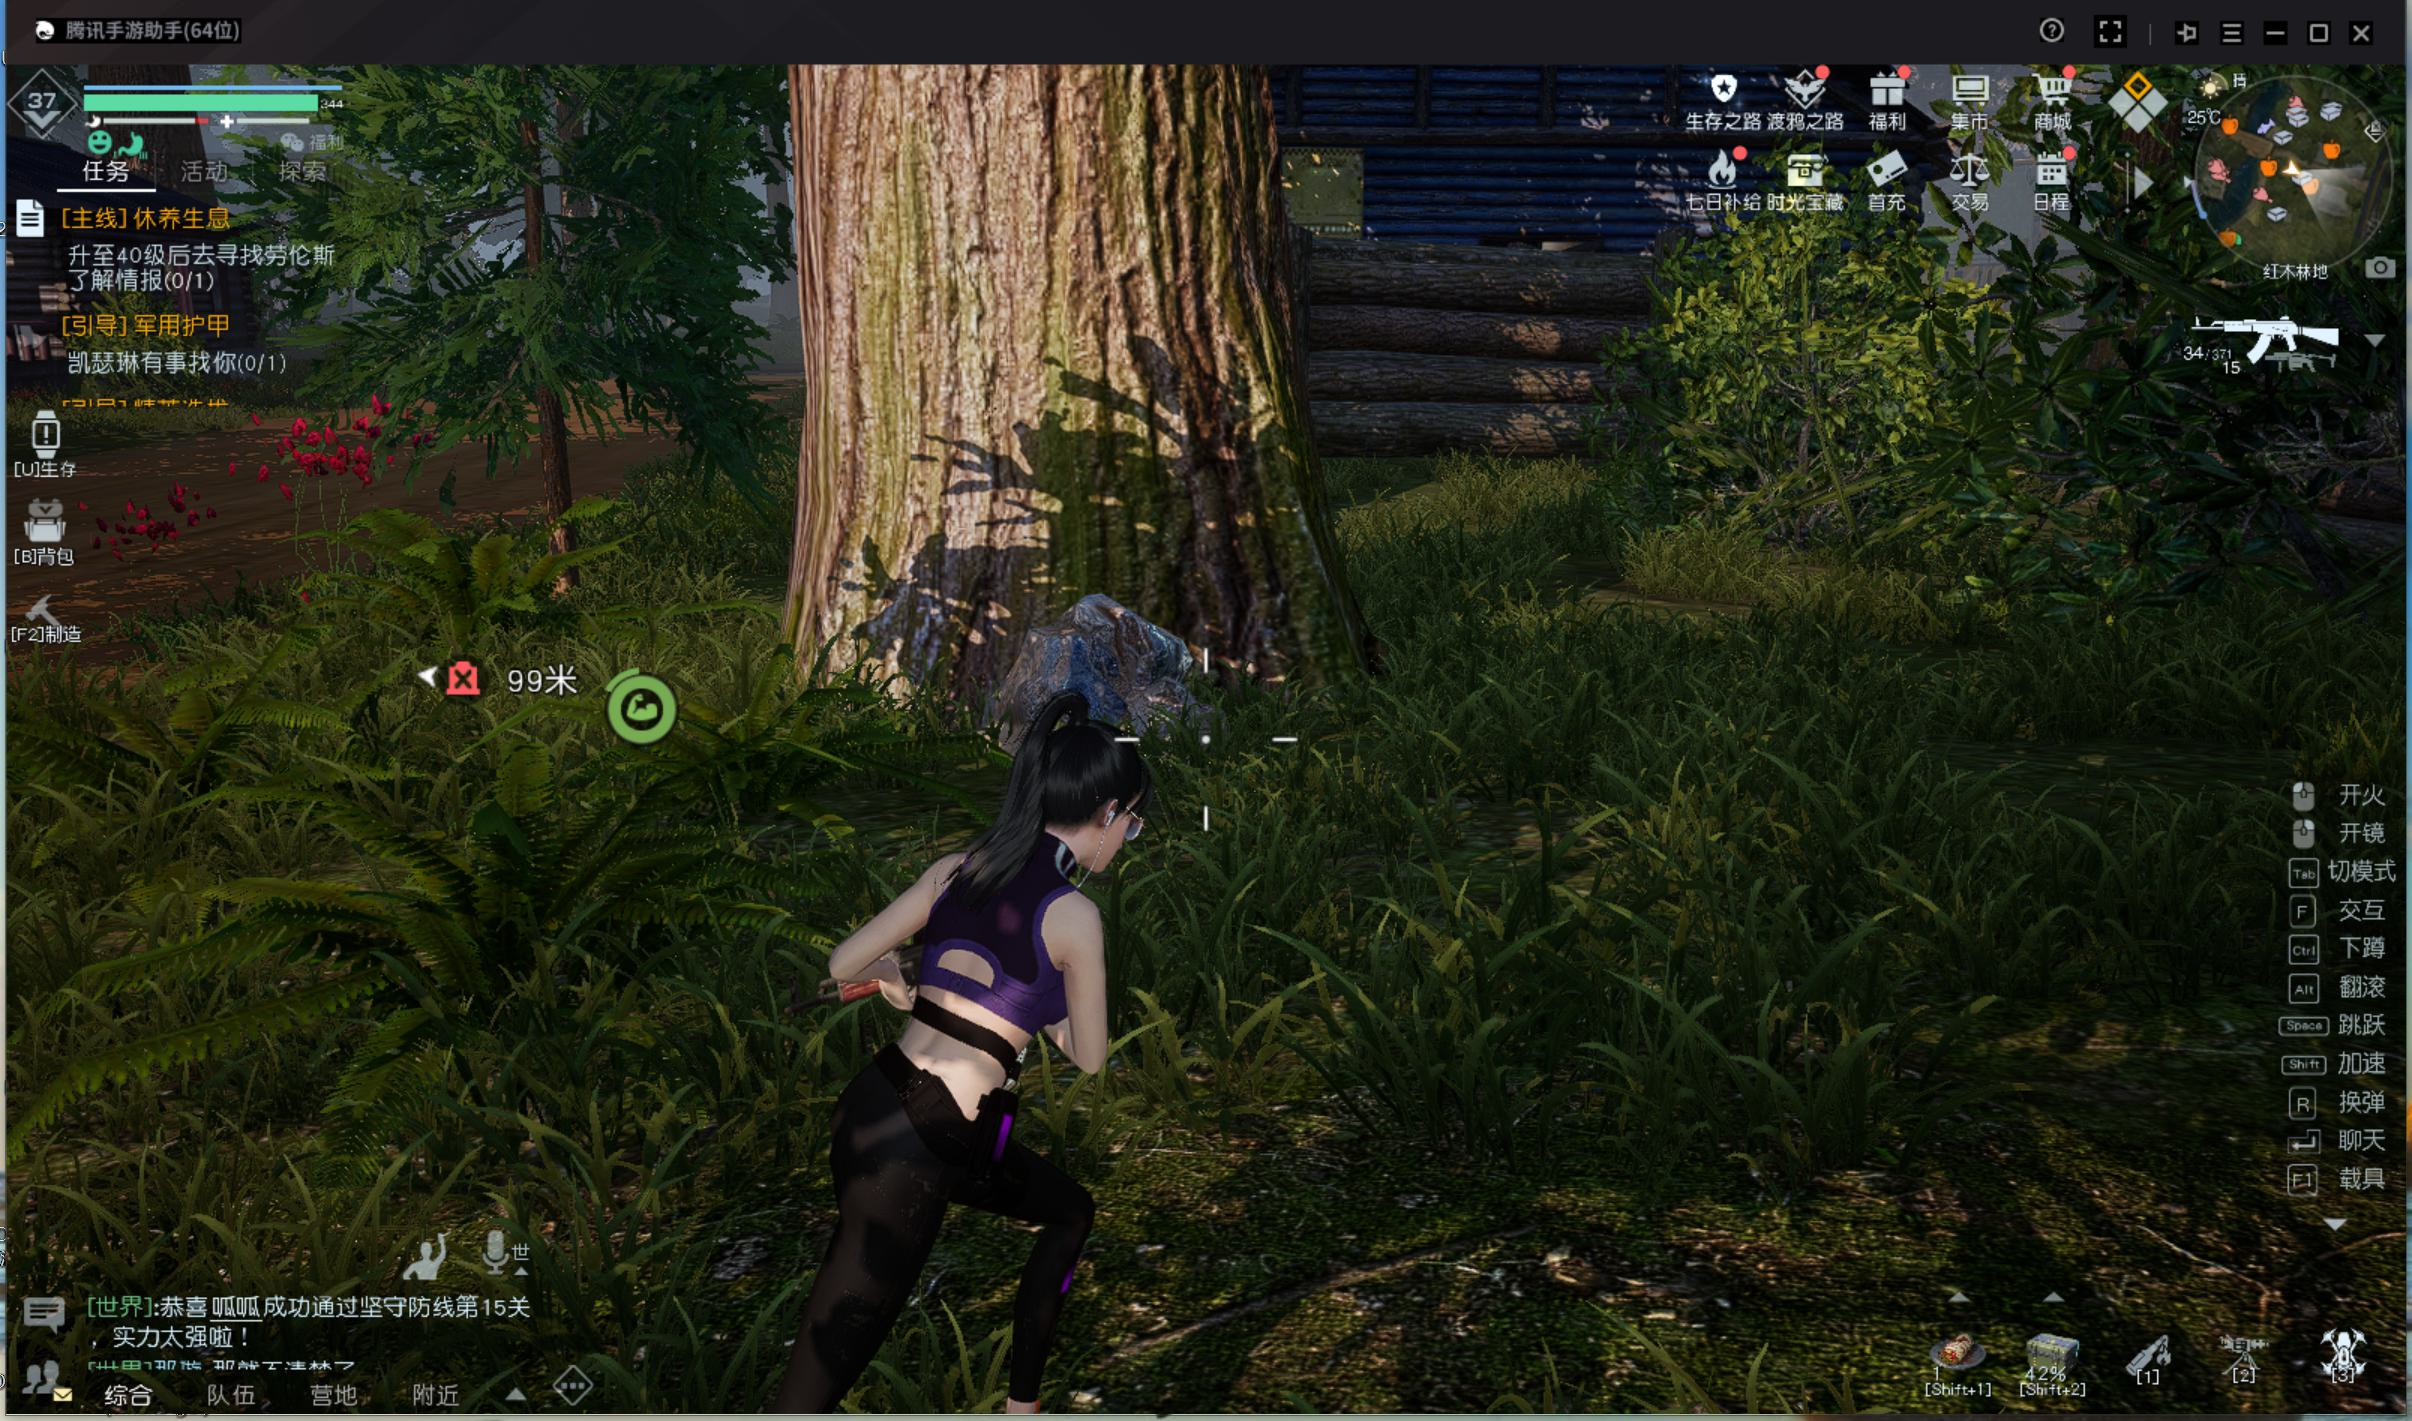stone: (951, 594, 1279, 763)
